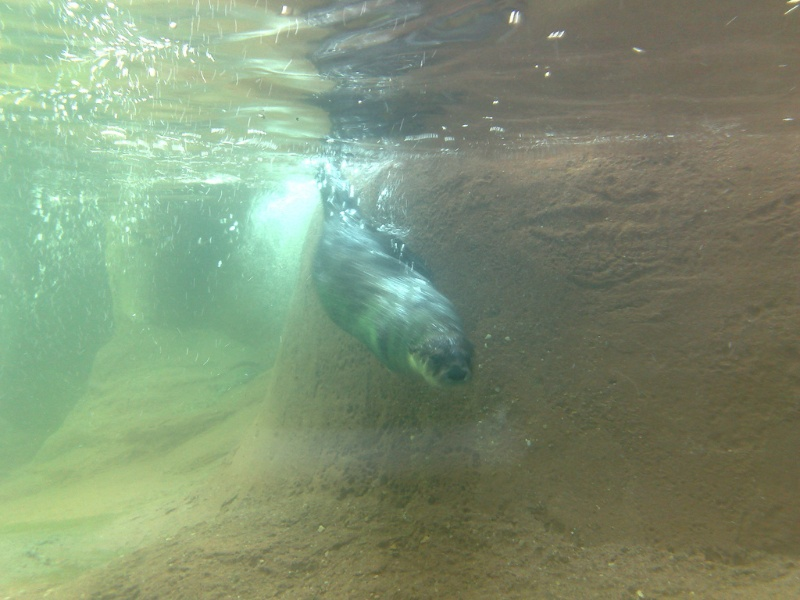minkish: (292, 172, 476, 398)
